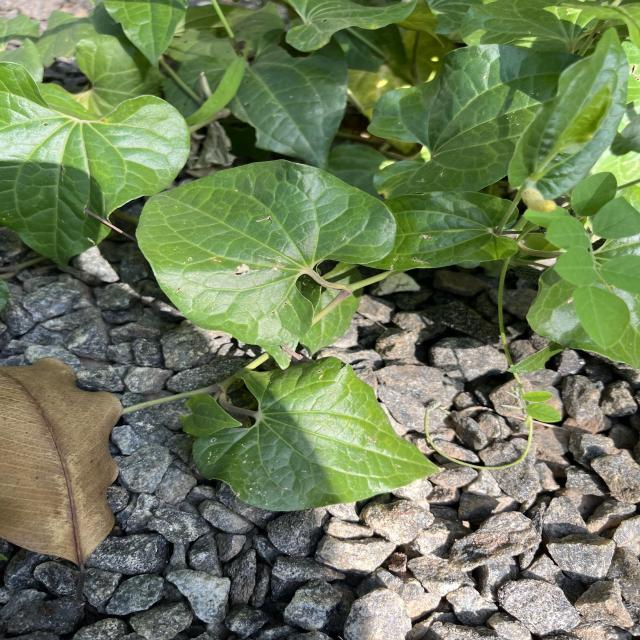Piper longum: (132, 156, 399, 348), (190, 354, 448, 512)
